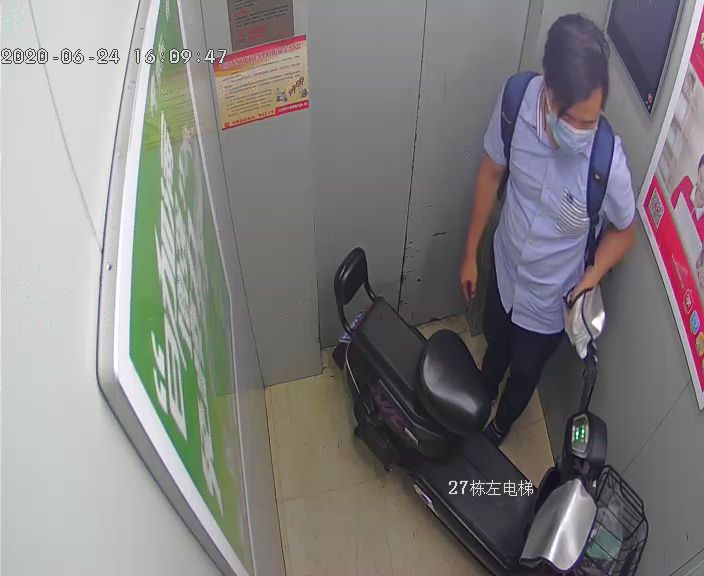Electric-bicycle: (333, 241, 651, 569)
